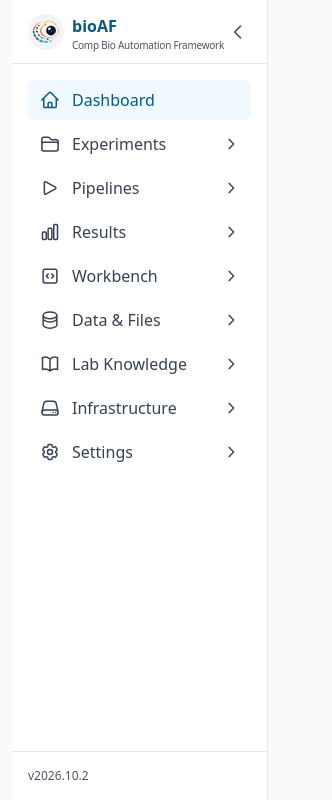
Test: Sidebar collapse toggle › clicking the toggle again re-expands the sidebar
Click the button with test id "sidebar-collapse-toggle".
click(238, 32)  # box [224,18,252,46]
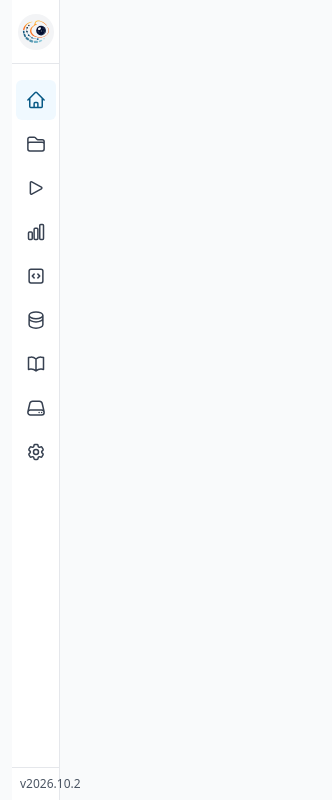
Click the button with test id "sidebar-collapse-toggle".
click(36, 32)  # box [18,14,54,50]
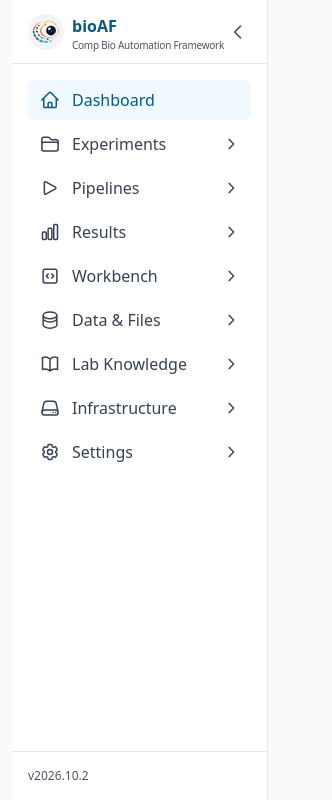
Check: the text "Pipelines" is shown, box [72,176,140,200]
